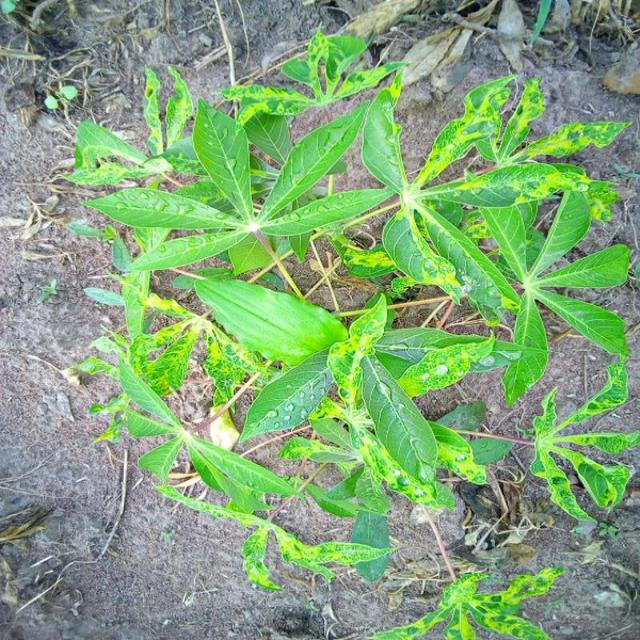cassava leaf: (66, 33, 634, 593)
